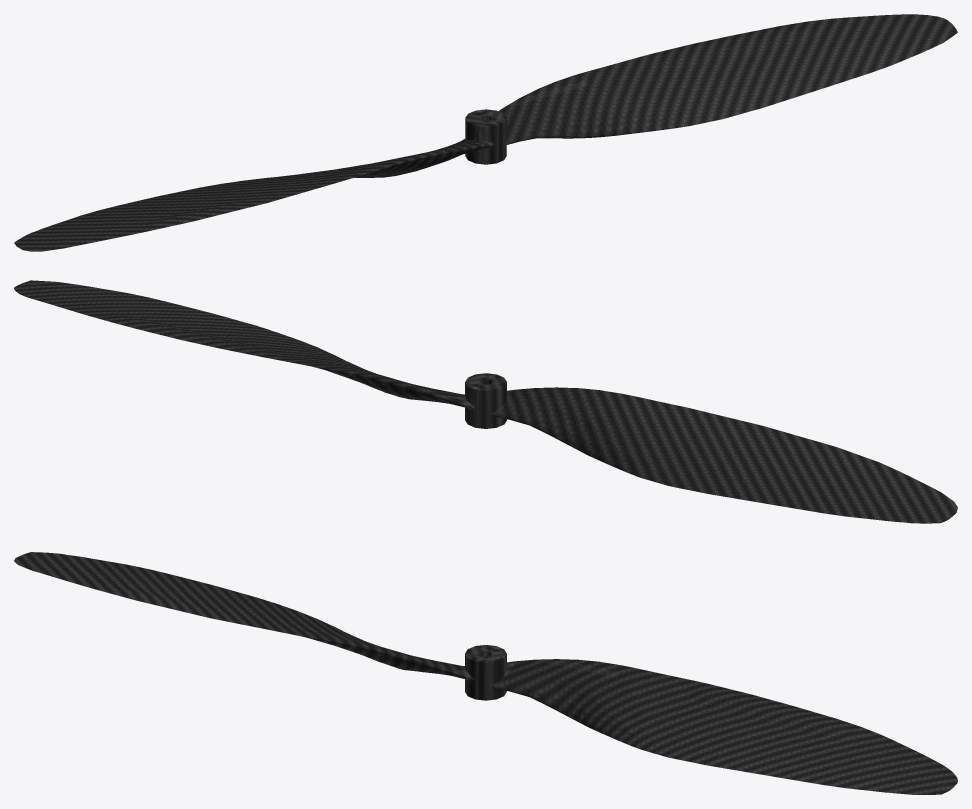
File: prop_ccw.dae
3 views of the same model, one above another, from view 1: azimuth 30°, elevation 25°; view 2: azimuth 150°, elevation 25°; view 3: azimuth 330°, elevation 25° (orthographic).
Visible parts, largest first — view 1: EPP1045_A; view 2: EPP1045_A; view 3: EPP1045_A.
Boxes of the visible parts, x1,y1,x2,y2 form: EPP1045_A: (14, 14, 957, 251); EPP1045_A: (14, 280, 957, 523); EPP1045_A: (14, 552, 957, 794).
Bounding box in the file's own units: 0.2577 × 0.028 × 0.0103.
Materials: 1 (1 with a texture image).
